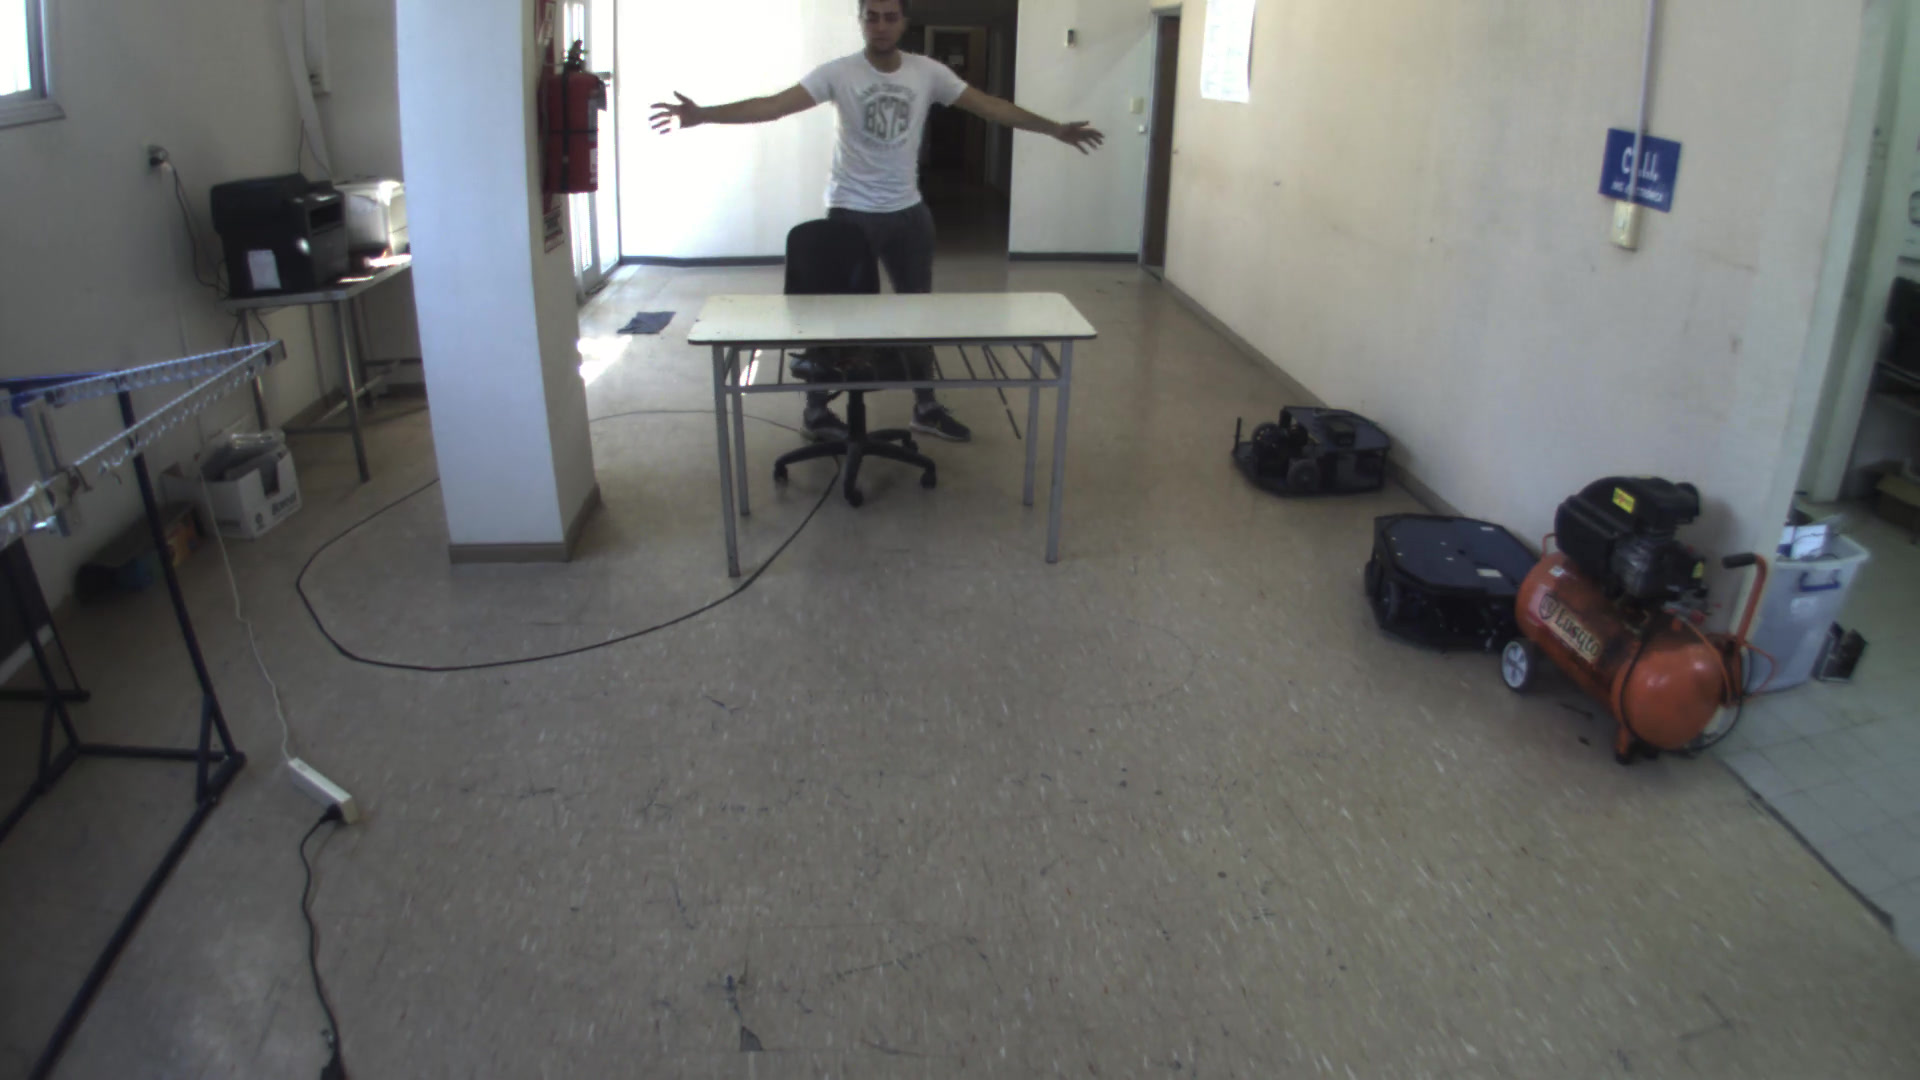hand: (644, 82, 719, 148), (1044, 105, 1113, 164)
